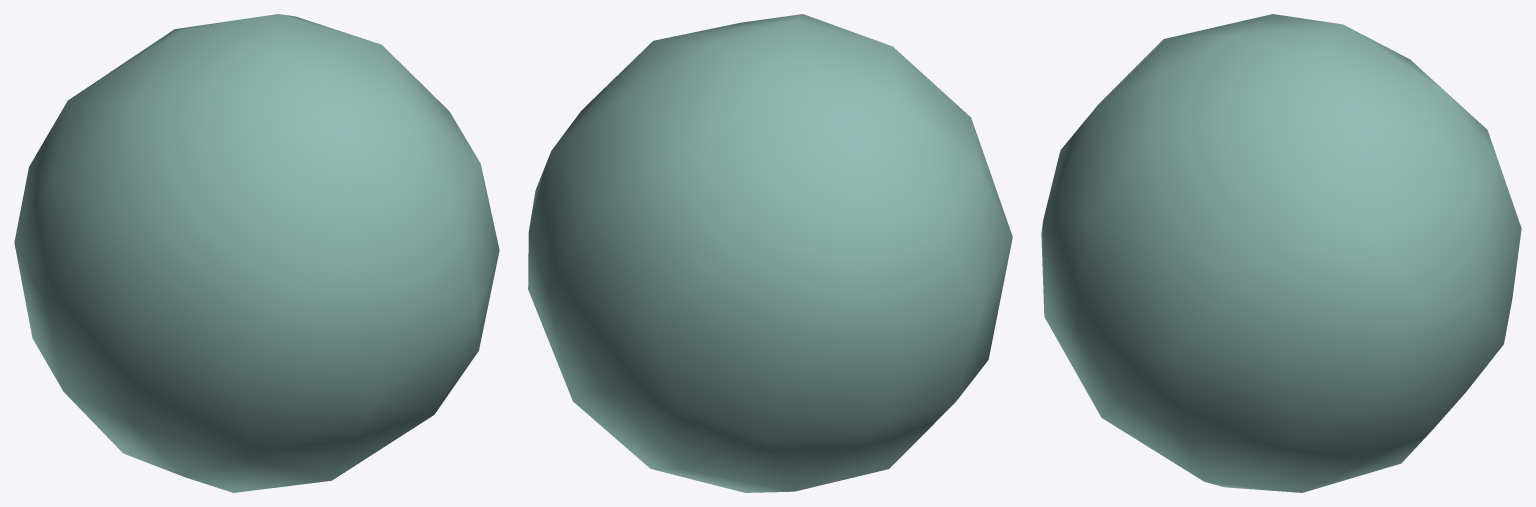
The picture shows the model from 3 angles, left to right: view 1: azimuth 30°, elevation 25°; view 2: azimuth 150°, elevation 25°; view 3: azimuth 270°, elevation 25°; orthographic projection.
Bounding box in the file's own units: 2 × 1.95 × 1.96.
